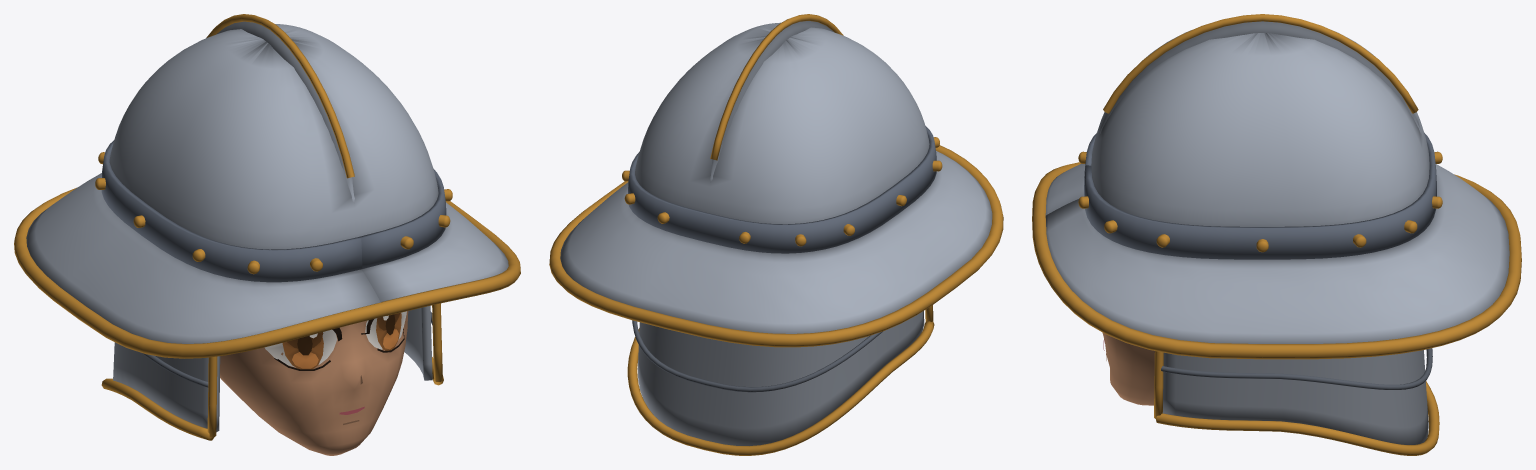
File: h_kettle_f.glb
3 renders of one model, left to right at view 1: azimuth 30°, elevation 25°; view 2: azimuth 150°, elevation 25°; view 3: azimuth 270°, elevation 25°, orthographic. The views are drawn at different scales.
Parts seen in each view (by area): view 1: Kettle, HeadMesh, EyeWhiteR; view 2: Kettle; view 3: Kettle, HeadMesh.
Boxes of the visible parts, bbox=[...] form: Kettle: bbox=[14, 14, 520, 440]; HeadMesh: bbox=[220, 311, 408, 455]; EyeWhiteR: bbox=[264, 329, 337, 367]; Kettle: bbox=[549, 14, 1003, 455]; Kettle: bbox=[1032, 14, 1521, 455]; HeadMesh: bbox=[1102, 332, 1154, 405].
Size of the model in its own units: 0.3306 by 0.3313 by 0.3538.
